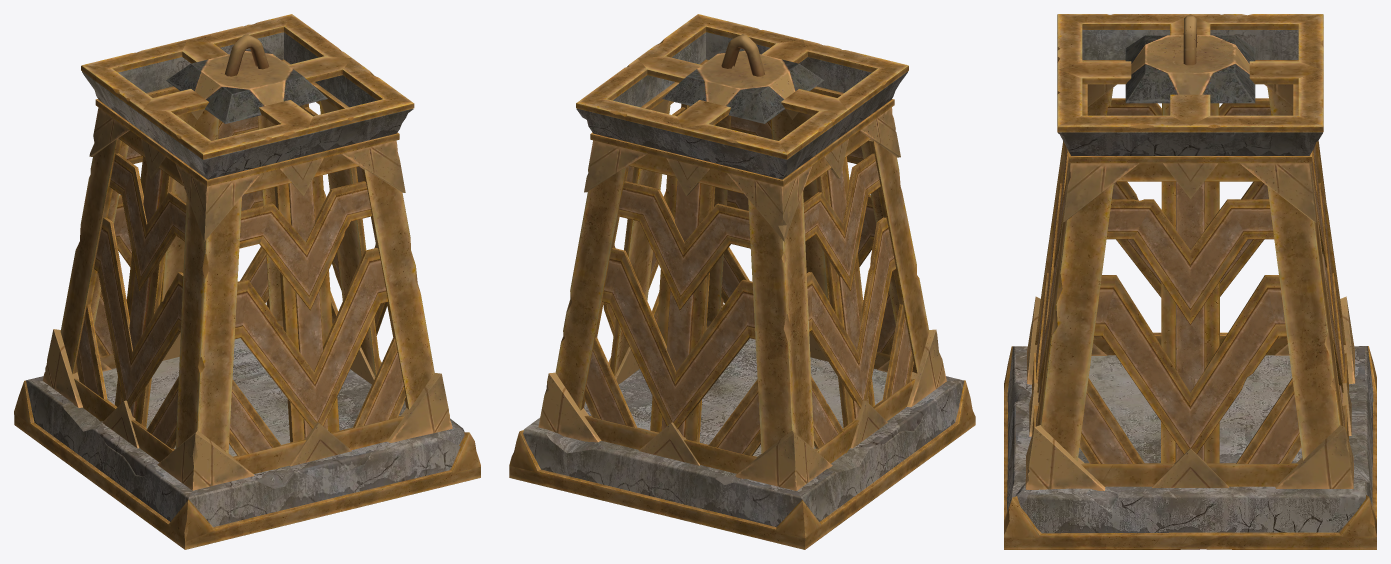
3 views of the same model, side by side, from view 1: azimuth 30°, elevation 25°; view 2: azimuth 150°, elevation 25°; view 3: azimuth 270°, elevation 25° (orthographic). The views are drawn at different scales.
Parts seen in each view (by area): view 1: SM_Dragonkin_Cage_01_LOD0; view 2: SM_Dragonkin_Cage_01_LOD0; view 3: SM_Dragonkin_Cage_01_LOD0.
Part boxes in pixels (box(x1,y1,x2,y2)): SM_Dragonkin_Cage_01_LOD0: box(14, 14, 480, 549); SM_Dragonkin_Cage_01_LOD0: box(509, 14, 975, 549); SM_Dragonkin_Cage_01_LOD0: box(1004, 14, 1376, 549).
Bounding box in the file's own units: 2.8 × 3.76 × 2.8.
Materials: 3 (3 with a texture image).
